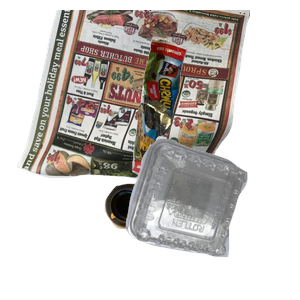glass: (102, 181, 246, 300)
paper: (14, 10, 254, 190)
plastic: (123, 136, 300, 300)
trash: (130, 34, 300, 203)
